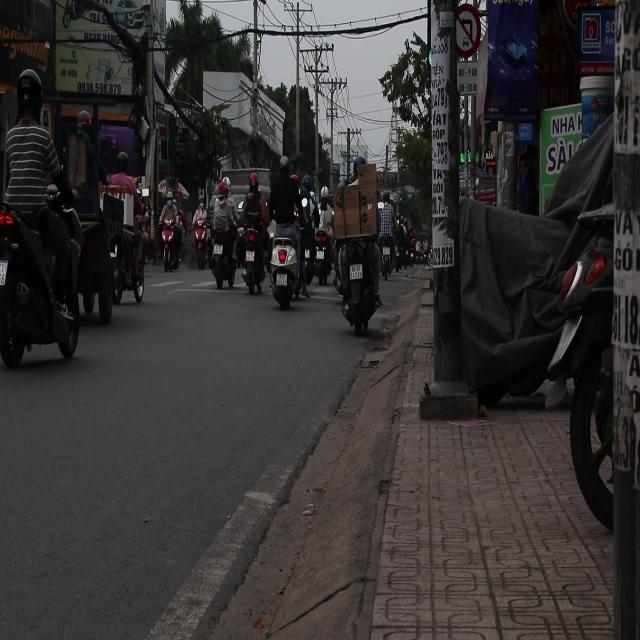motorbike: (542, 64, 636, 606), (0, 196, 84, 370), (334, 164, 386, 337), (266, 223, 305, 308), (235, 222, 269, 294), (208, 220, 236, 290), (192, 218, 210, 271)
